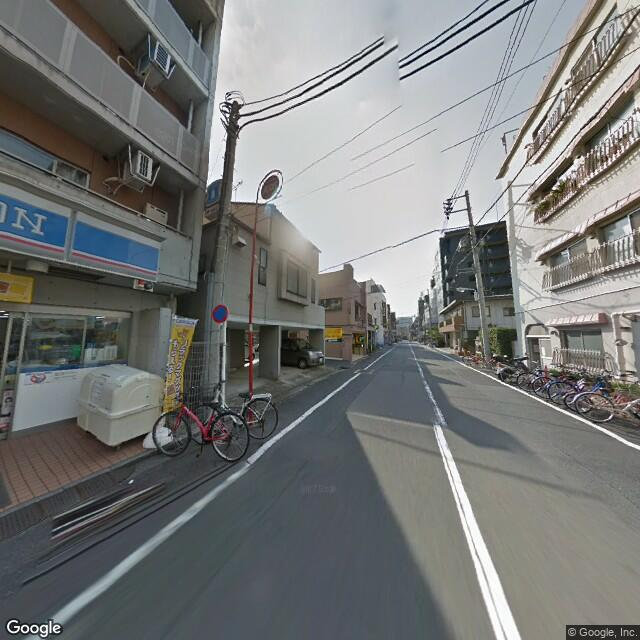lawson: (1, 177, 160, 287), (204, 177, 224, 208)
